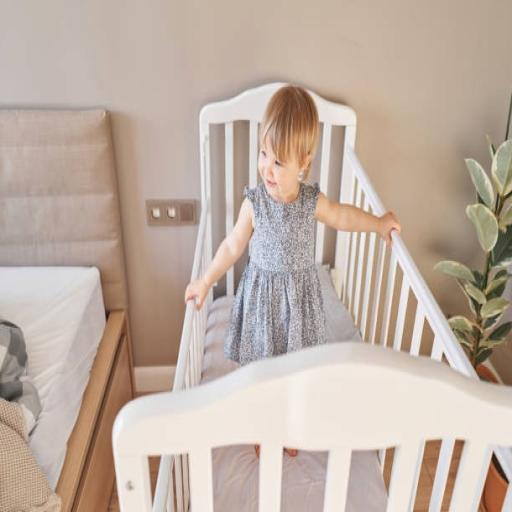crib: (113, 224, 511, 511)
